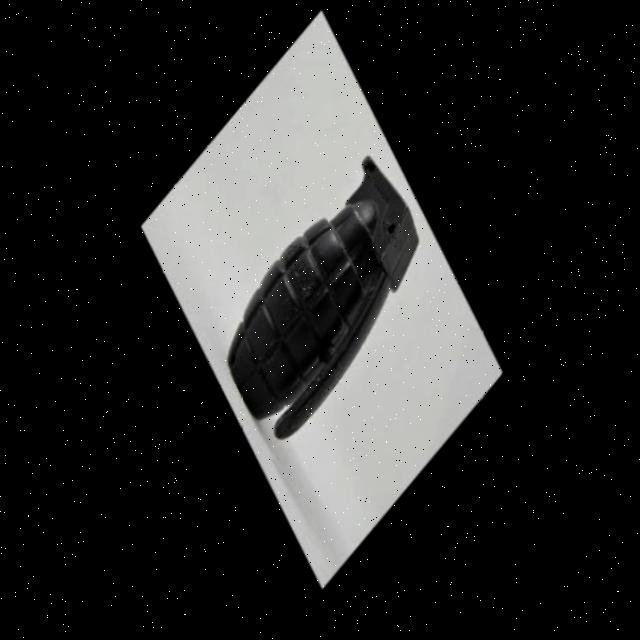grenade: (204, 138, 432, 456)
